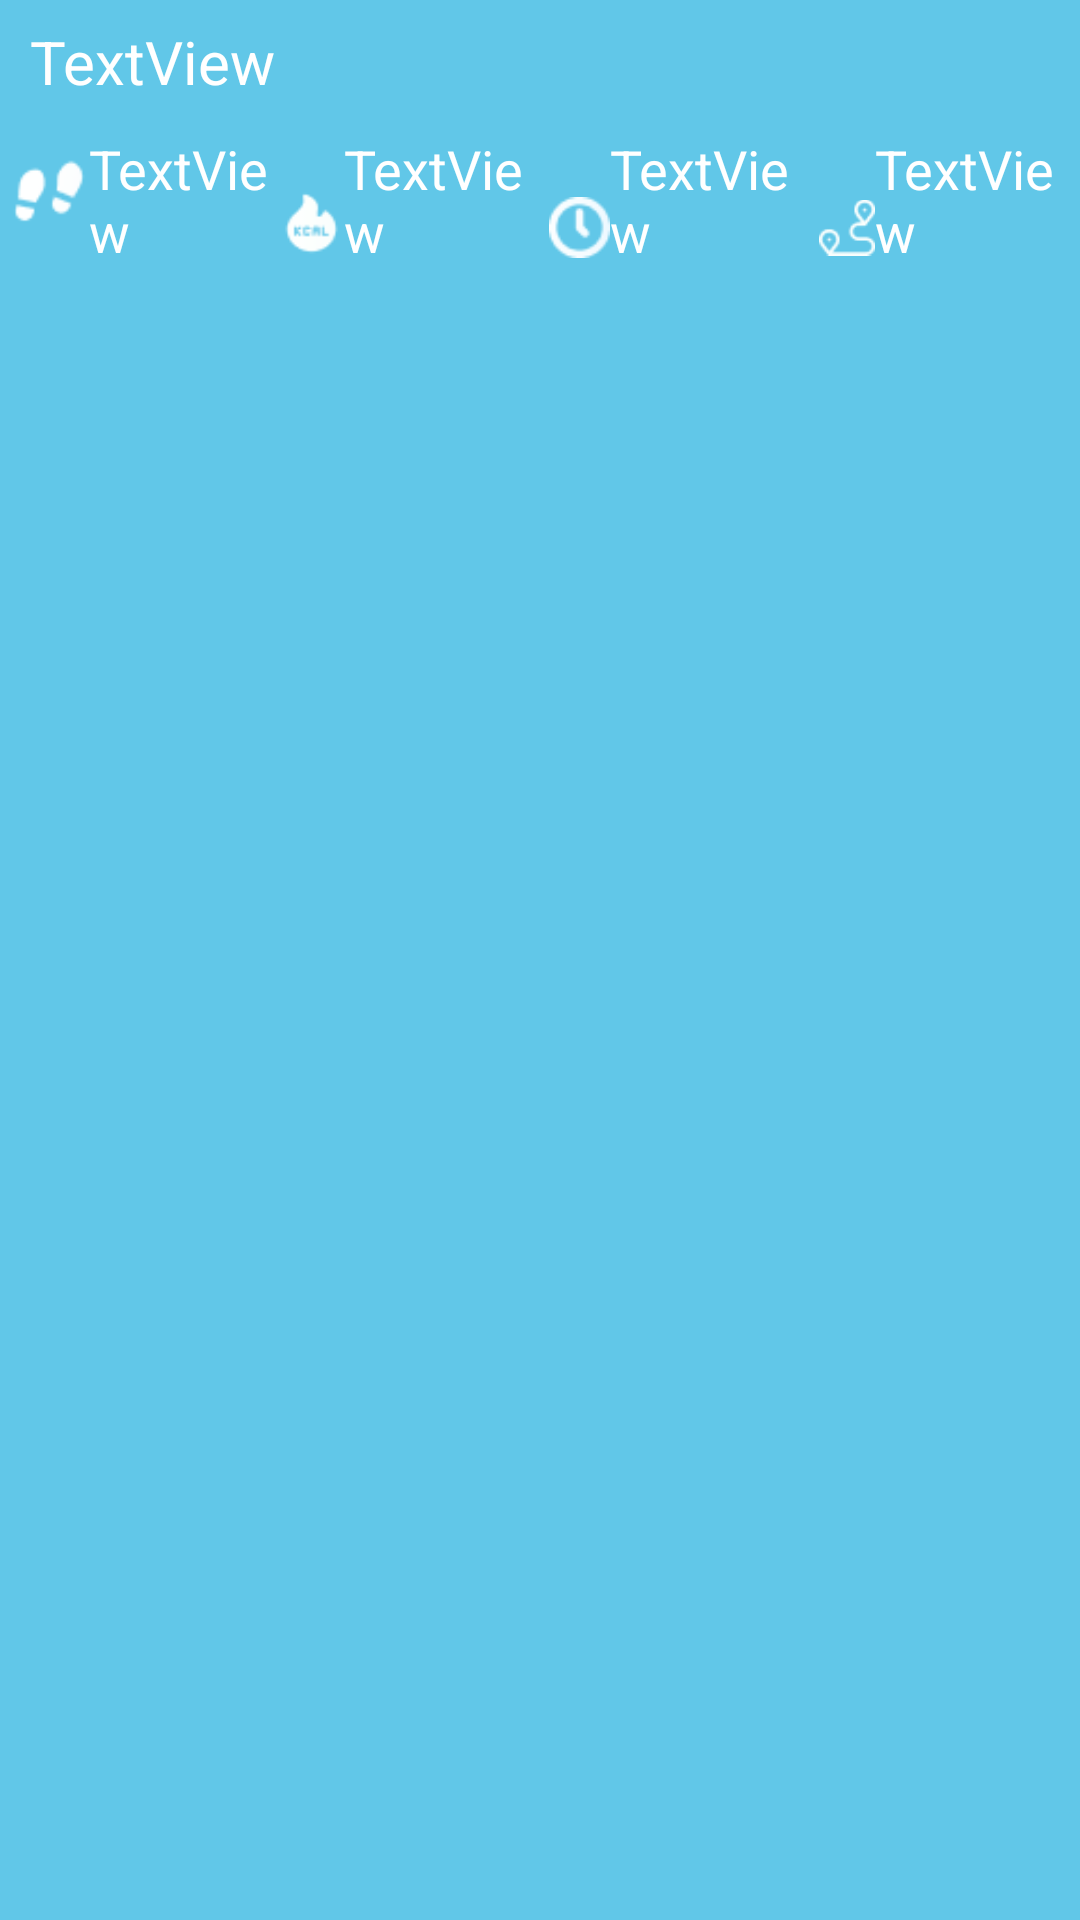

Locate icon controls on the screen. Image size 1080px x 1920px, boxes as region(x1, y1, x2, y2).
record kcal: region(286, 194, 337, 252)
record path: region(819, 200, 875, 256)
record step: region(15, 161, 83, 221)
record time: region(549, 197, 610, 258)
